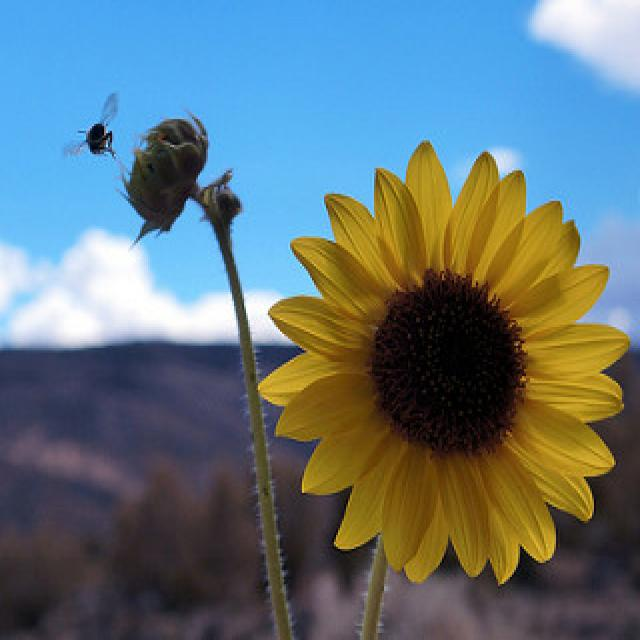sunflower: (250, 118, 634, 587)
